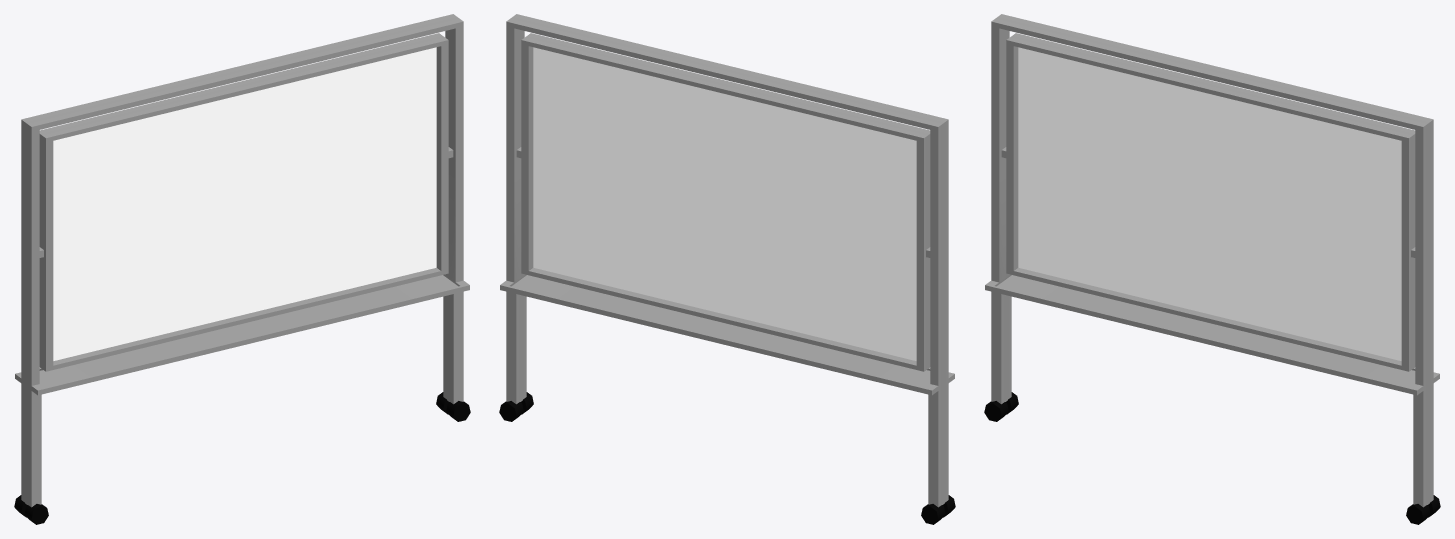
Rendered from MobileWhiteboard.glb.
3 views of the same model, side by side, from view 1: azimuth 30°, elevation 25°; view 2: azimuth 150°, elevation 25°; view 3: azimuth 330°, elevation 25° (orthographic).
Visible parts, largest first — view 1: MobileWhiteboard; view 2: MobileWhiteboard; view 3: MobileWhiteboard.
Boxes of the visible parts, left/top/right/bottom form: MobileWhiteboard: left=14, top=14, right=470, bottom=524; MobileWhiteboard: left=499, top=14, right=955, bottom=524; MobileWhiteboard: left=984, top=14, right=1440, bottom=524.
Size of the model in its own units: 3.27 by 2.82 by 0.2967.
1 material, 1 textured.
